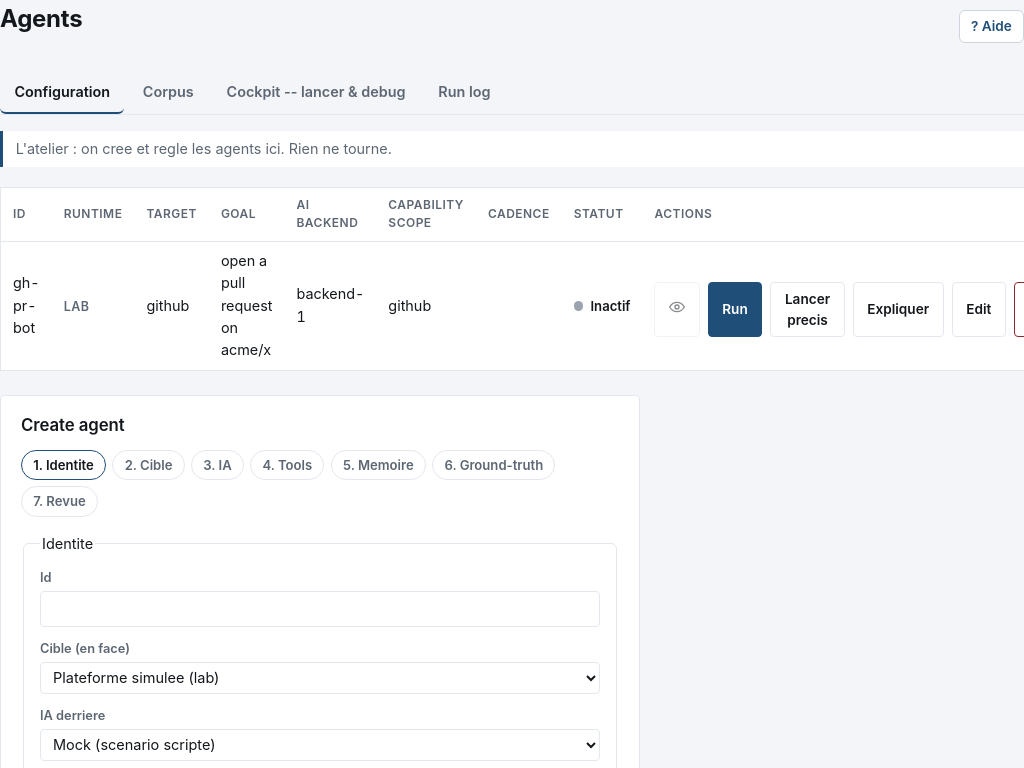
Test: AgentsPage › opens the precise launch modal for an agent row
Click the button with aria-label "lancer precis pour gh-pr-bot" at (808, 310), box [770,282,845,337]
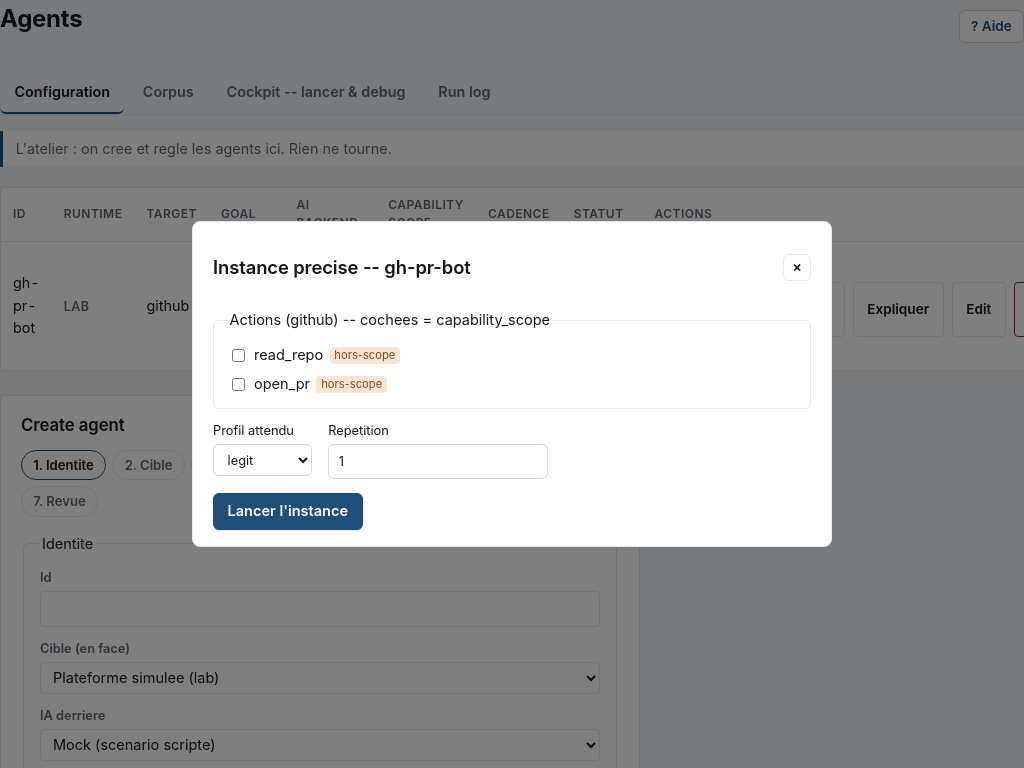
Expected: the dialog named "lancer une instance precise" is shown
